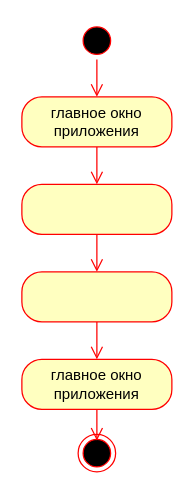
The diagram is 194 pixels wide and 494 high, and some of its shapes have lost their labels. Here are the shapes that lost their labels. From the top down, the centre of each, then its label:
point 96,208: нажать "добавить запись"
point 96,296: добавить запись
